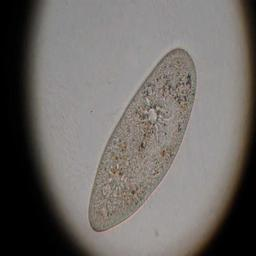Paramecium: (88, 47, 198, 235)
